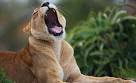lion: (6, 7, 85, 83)
